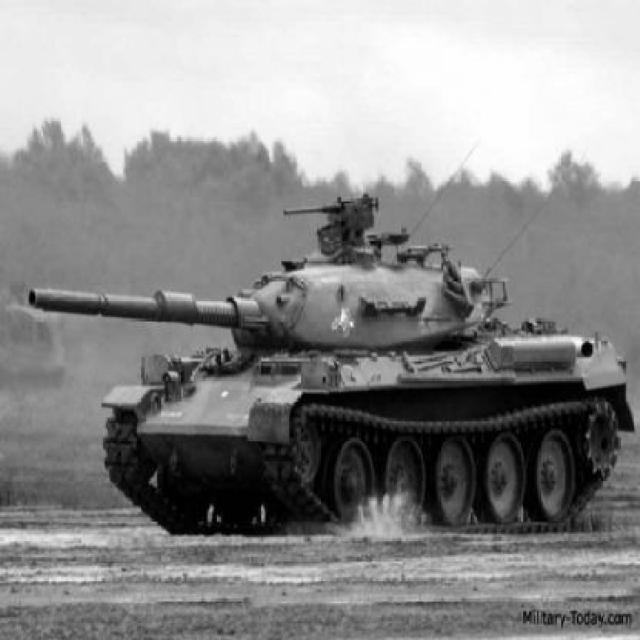Tank: (28, 191, 637, 534)
